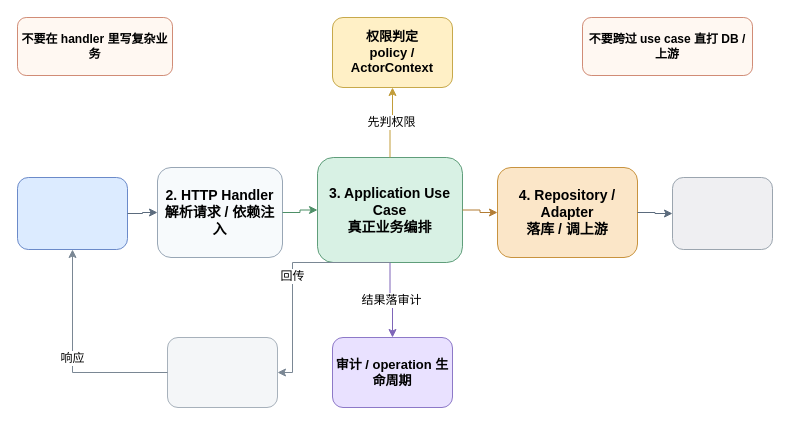
This 790x425 diagram has some shape labels left out. The shapes that lost their labels are listed below. From the top down, each one's centre as x and y in pixels, then its label:
At [72,213]: "1. 前端 / 调用方".
At [722,213]: "5. DB / Runtime / IDS".
At [222,372]: "返回 DTO / 错误码".
